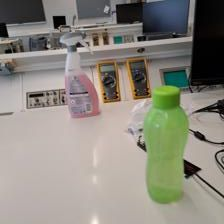bottle: (144, 84, 190, 204)
